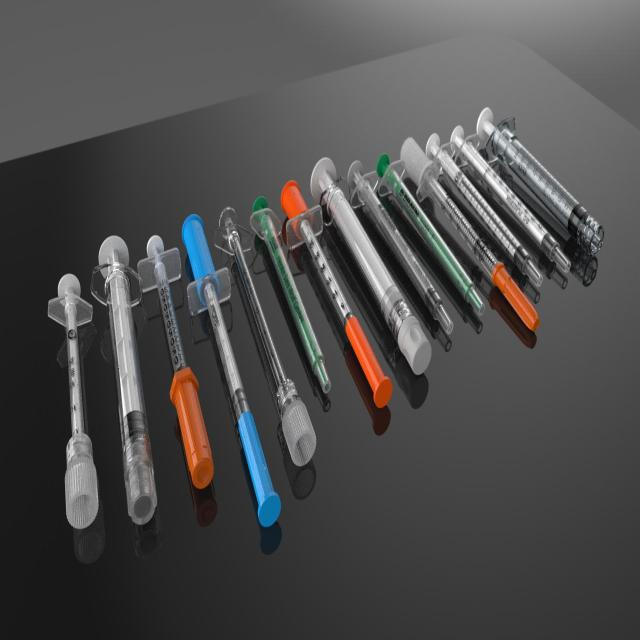B3: (181, 213, 283, 534), (310, 155, 432, 380), (400, 137, 540, 332), (215, 206, 317, 467), (282, 178, 393, 412), (140, 227, 218, 498), (92, 235, 158, 527), (477, 105, 607, 252), (348, 158, 454, 337), (376, 152, 487, 319), (448, 126, 572, 275), (426, 134, 543, 285), (251, 193, 330, 395), (52, 275, 101, 531)
